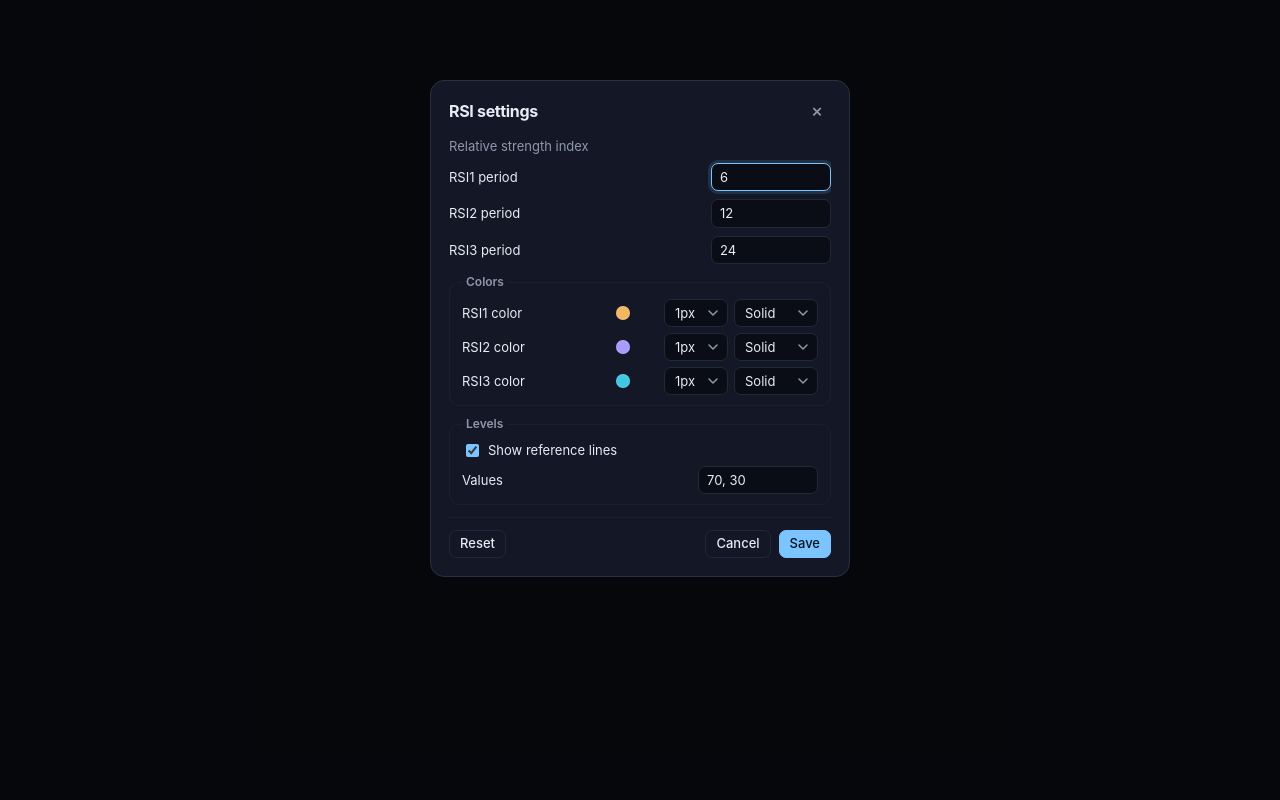
Test: IndicatorSettings › reference levels › invalid values show an error and disable Save while the levels are shown
Replace the text in the field labelled "Values" with "70, high" at (758, 480), box [698,466,818,494]
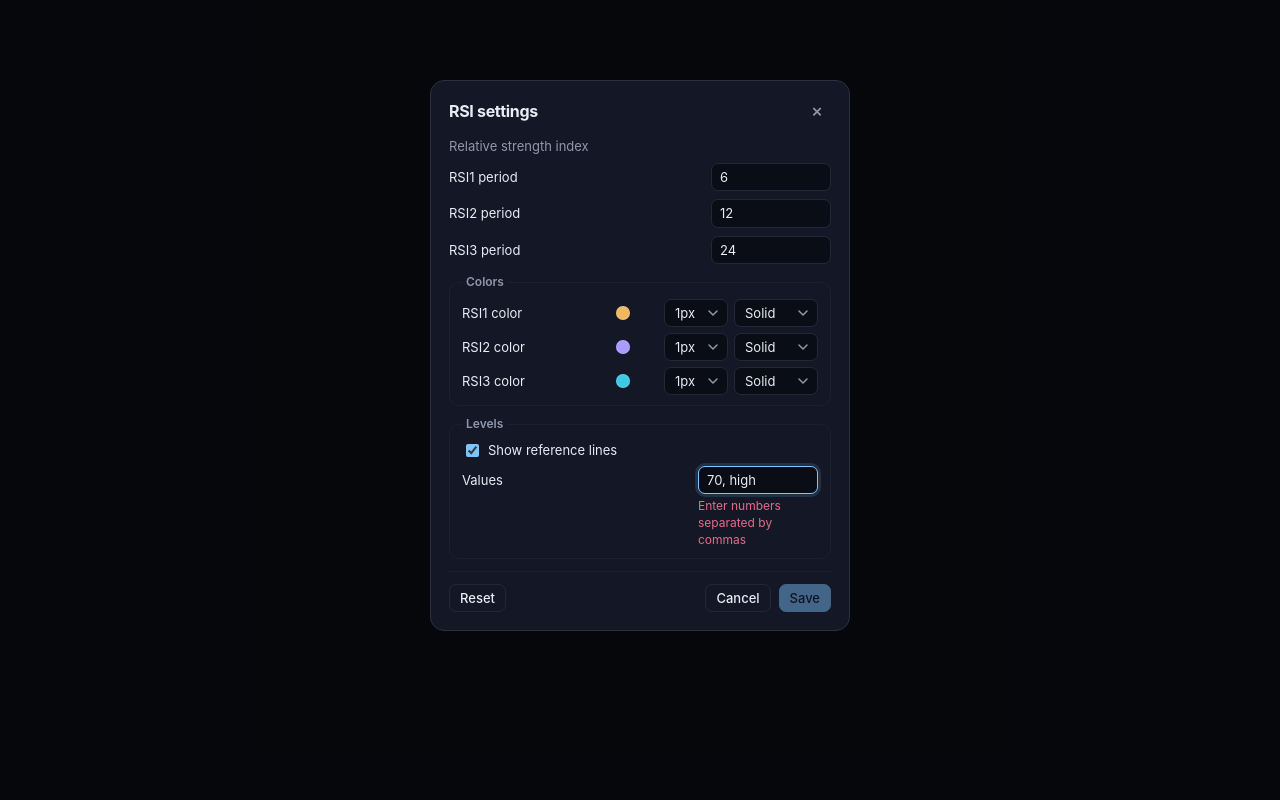
Expected: the button "Save" is disabled, [779,584,831,612]
Replace the text in the field labelled "Values" with "1 2 3 4 5 6" at (758, 480), box [698,466,818,494]
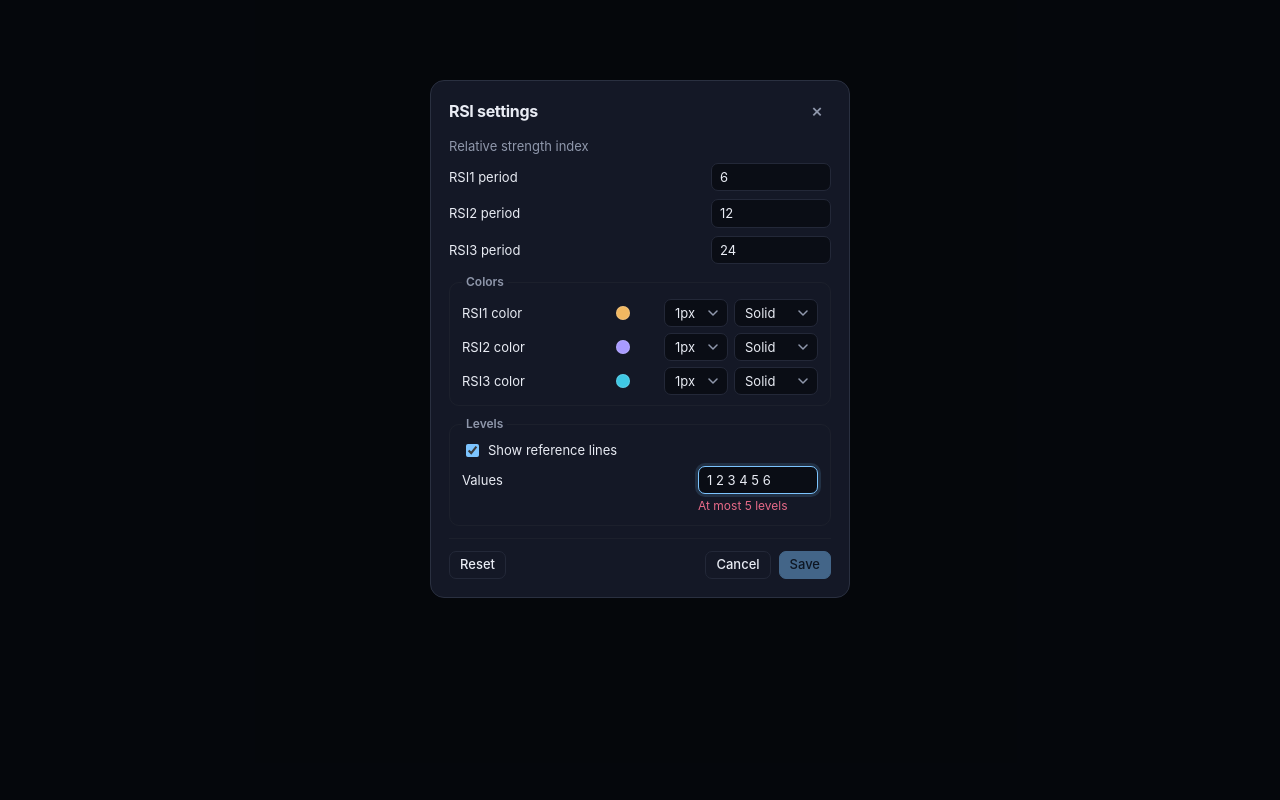
Expected: the text "At most 5 levels" is shown, [698,498,788,513]
Click the checkbox labelled "Show reference lines" at (472, 450), box [466,444,479,457]
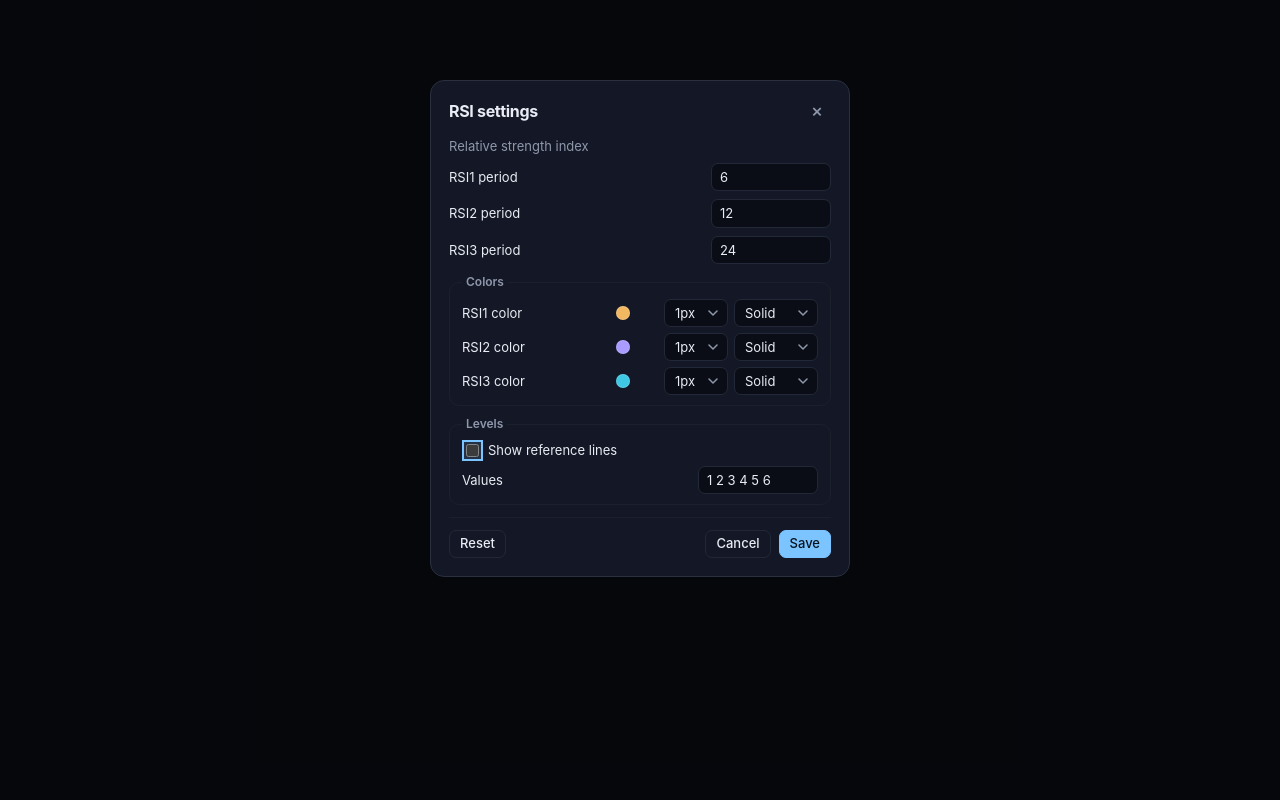
Expected: the button "Save" is enabled, [779,530,831,558]
